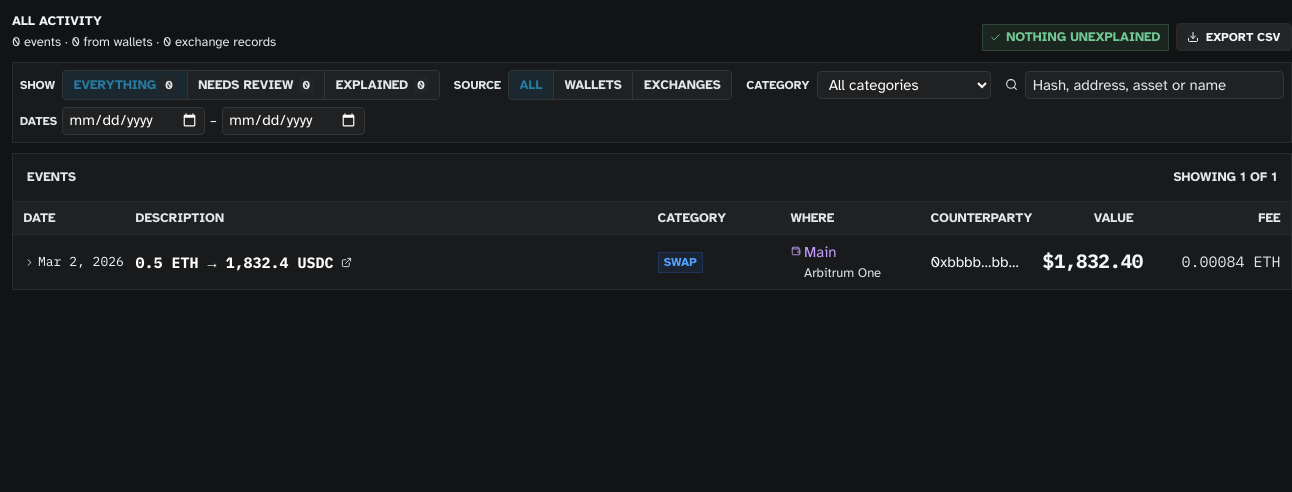
Test case: CryptoLedger › mounts the row detail once, not once per breakpoint
Click the text "0.5 ETH → 1,832.4 USDC". click: (234, 262)
box: [136,252,334,273]
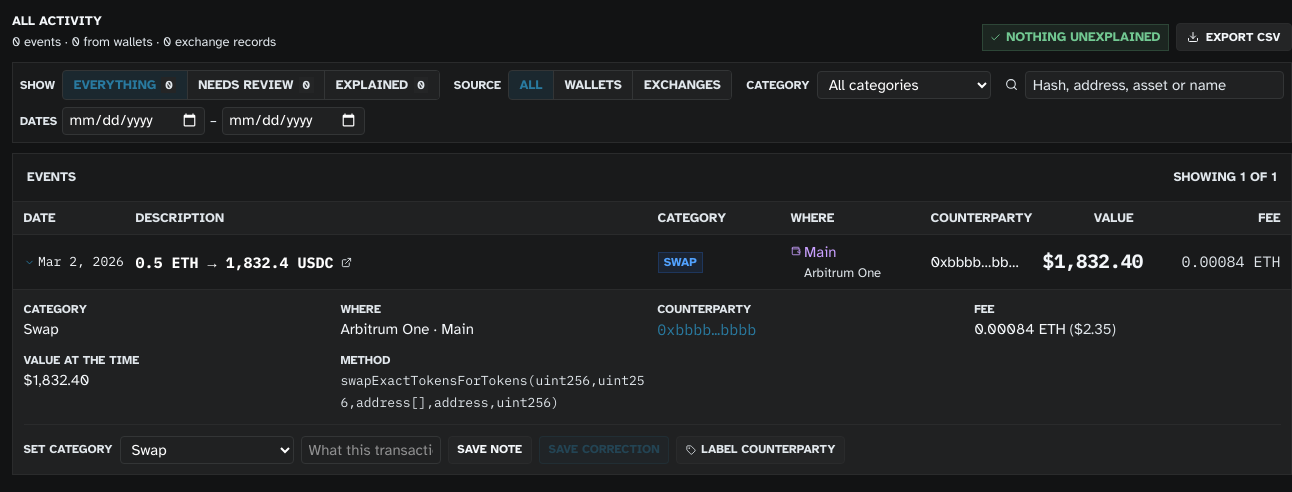
Check: the number of dropdowns labelled "Set category" is 1, box [120,436,294,464]
